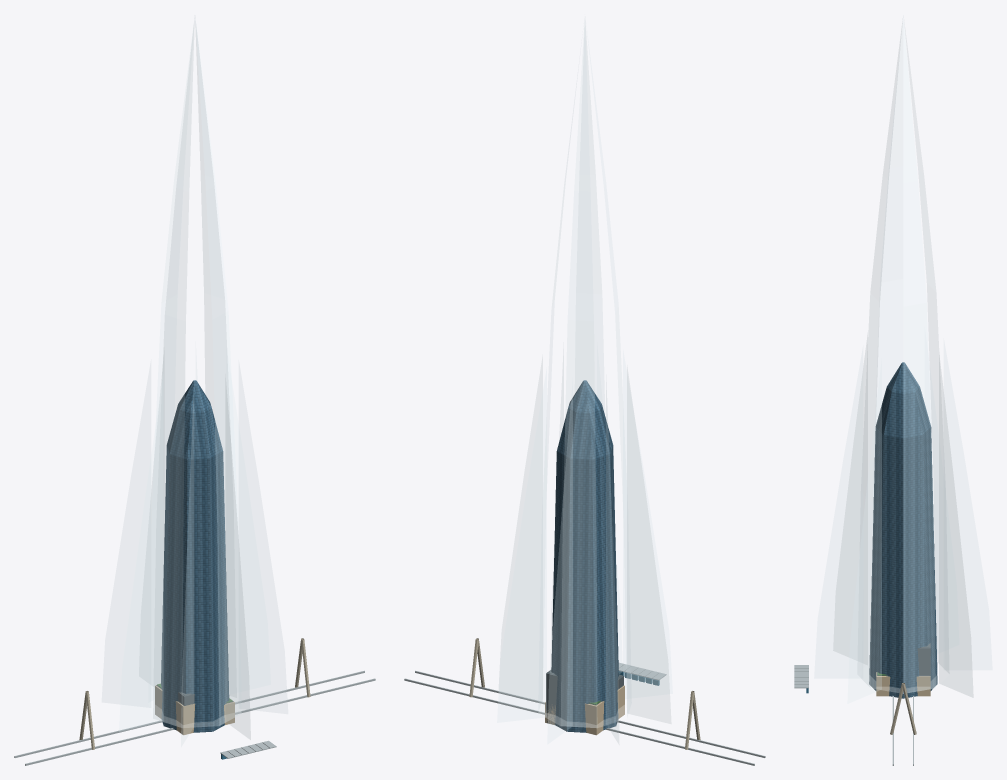
File: Catalog-56.glb
3 views of the same model, side by side, from view 1: azimuth 30°, elevation 25°; view 2: azimuth 150°, elevation 25°; view 3: azimuth 270°, elevation 25° (orthographic). The views are drawn at different scales.
Visible parts, largest first — view 1: Metropolis Crystal Clear, Metropolis Glass SilverBlue, Metropolis Silver, Metropolis Sandstone, Metropolis Stone; view 2: Metropolis Crystal Clear, Metropolis Glass SilverBlue, Metropolis Silver, Metropolis Sandstone, Metropolis Stone, Metropolis Graphite; view 3: Metropolis Crystal Clear, Metropolis Glass SilverBlue, Metropolis Sandstone, Metropolis Graphite, Metropolis Stone, Metropolis Silver.
Part boxes in pixels (box(x1,y1,x2,y2)): Metropolis Crystal Clear: box(102, 18, 287, 746); Metropolis Glass SilverBlue: box(161, 380, 229, 732); Metropolis Silver: box(14, 670, 375, 765); Metropolis Sandstone: box(155, 685, 234, 735); Metropolis Stone: box(79, 638, 310, 749); Metropolis Crystal Clear: box(497, 20, 672, 743); Metropolis Glass SilverBlue: box(551, 380, 618, 732); Metropolis Silver: box(404, 670, 765, 765); Metropolis Sandstone: box(545, 685, 624, 735); Metropolis Stone: box(469, 638, 700, 749); Metropolis Graphite: box(546, 670, 623, 724); Metropolis Crystal Clear: box(814, 16, 992, 703); Metropolis Glass SilverBlue: box(869, 362, 937, 698); Metropolis Sandstone: box(876, 672, 930, 696); Metropolis Graphite: box(917, 643, 930, 676); Metropolis Stone: box(890, 683, 916, 734); Metropolis Silver: box(794, 665, 808, 688).
Bounding box in the file's own units: 650 × 1251 × 336.
16 materials, 2 textured.
